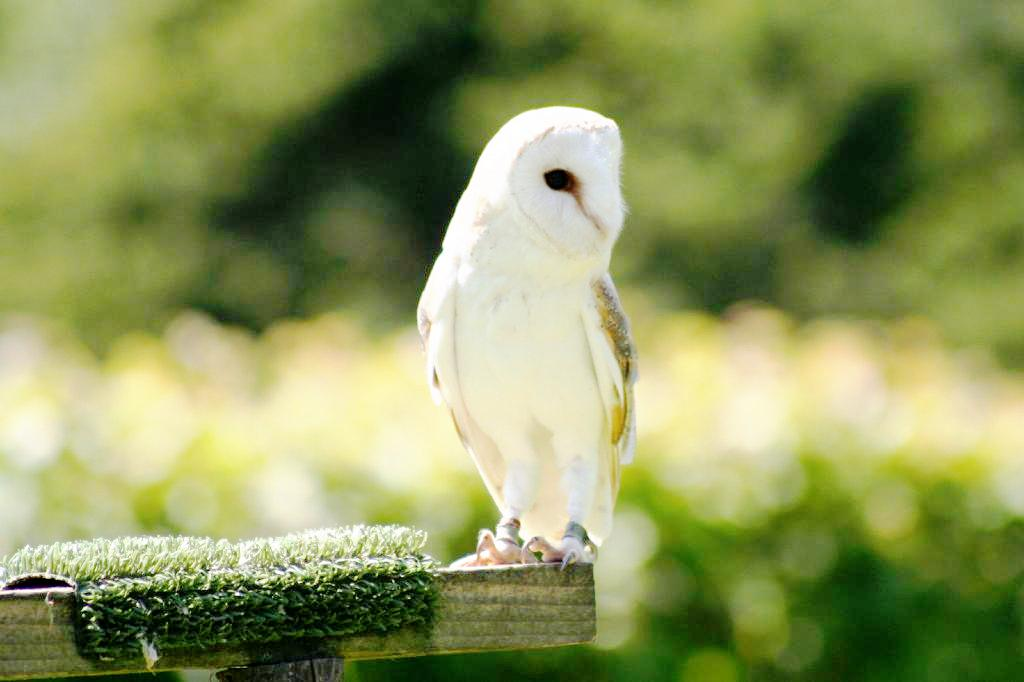Owl: (411, 104, 642, 568)
